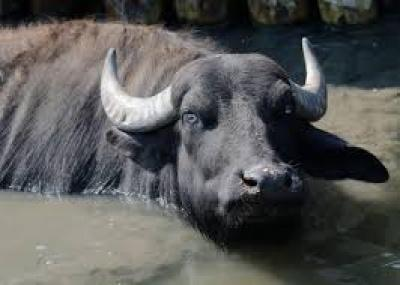buffalo: (0, 20, 388, 242)
